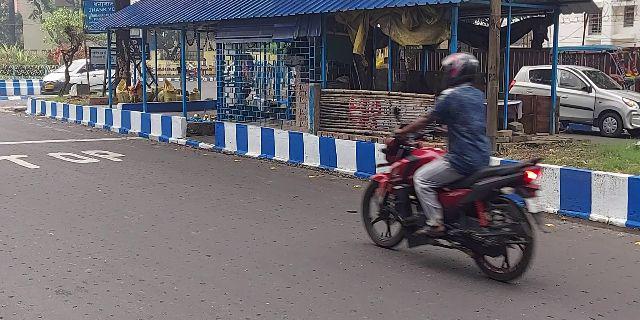Motorbike: (359, 51, 555, 291)
